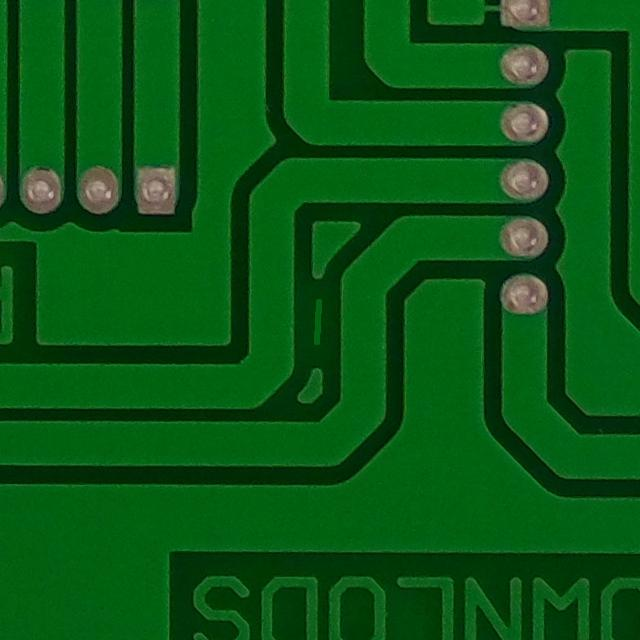spurious_copper: (305, 285, 336, 355)
